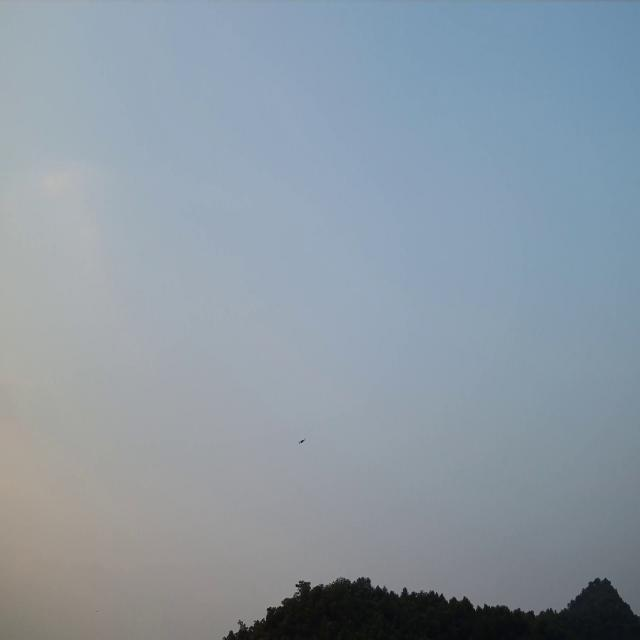drone: (298, 437, 307, 445)
